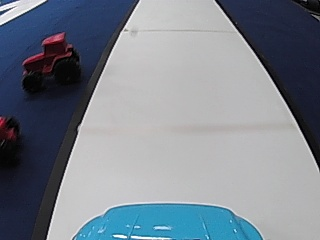tractor: (18, 30, 80, 93), (1, 114, 21, 164)
